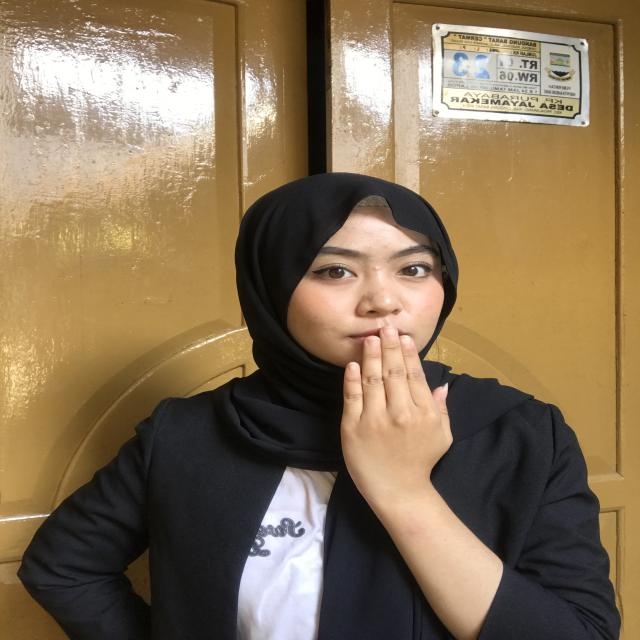ganteng: (315, 307, 466, 520)
